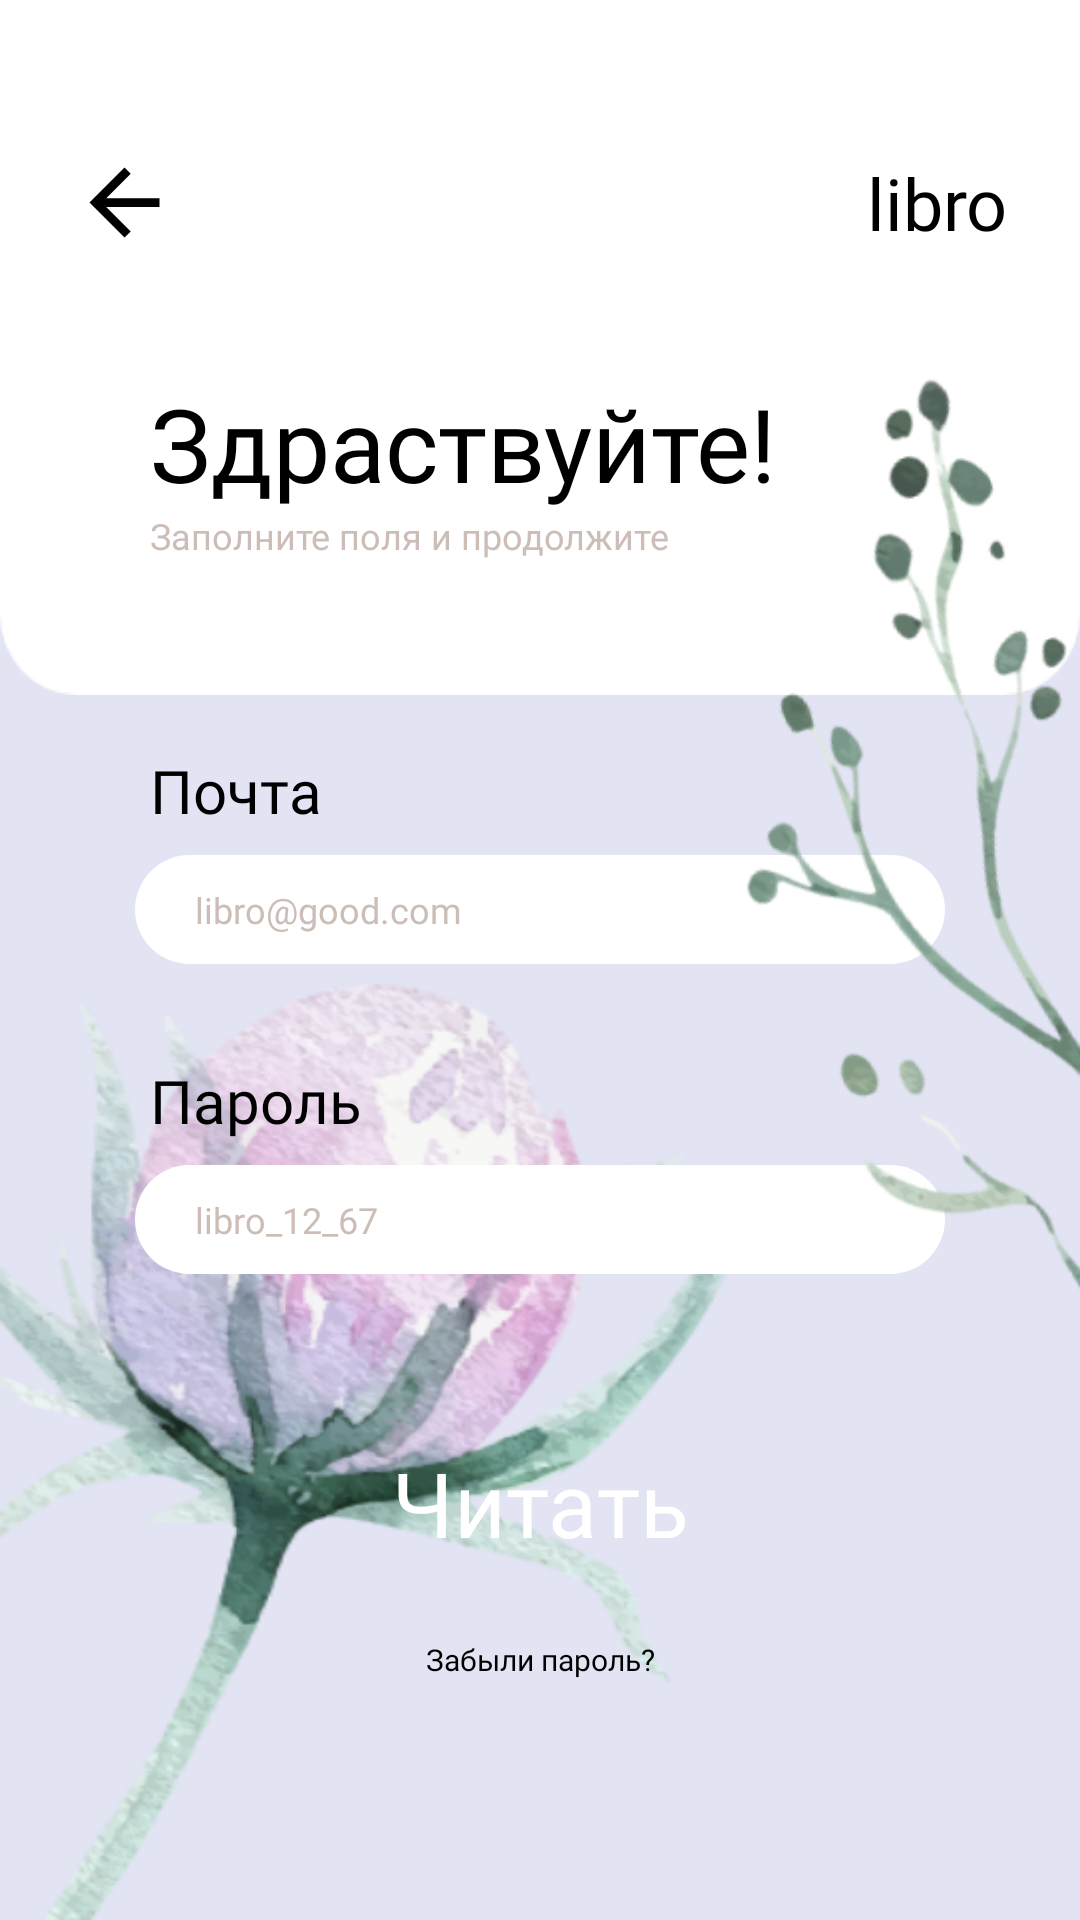

Icon click points for this 1080px x 1920px phone screenshot, format (x=x, y=y):
arrow: (x=124, y=202)
